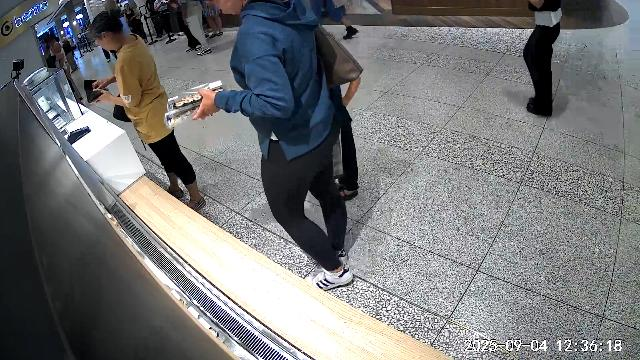sushi-box: (165, 92, 201, 128), (191, 81, 224, 89)
